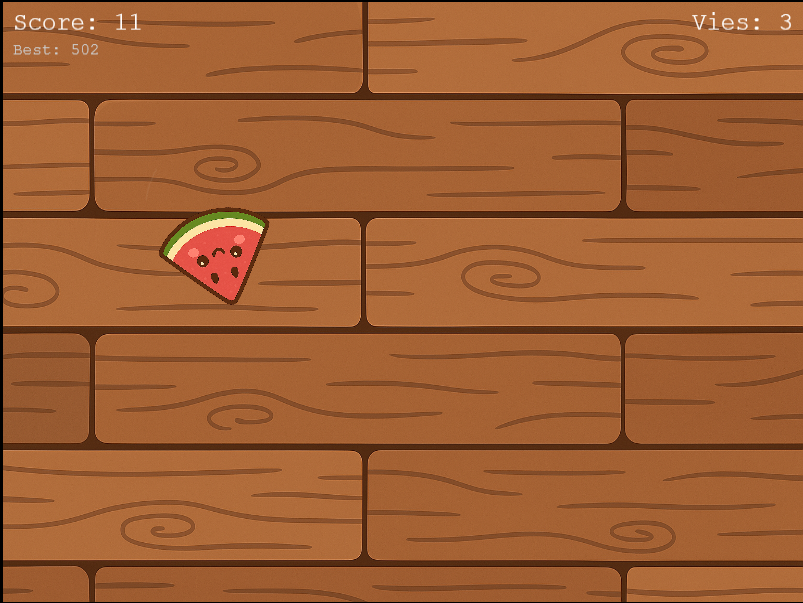fruit: (149, 202, 275, 305)
